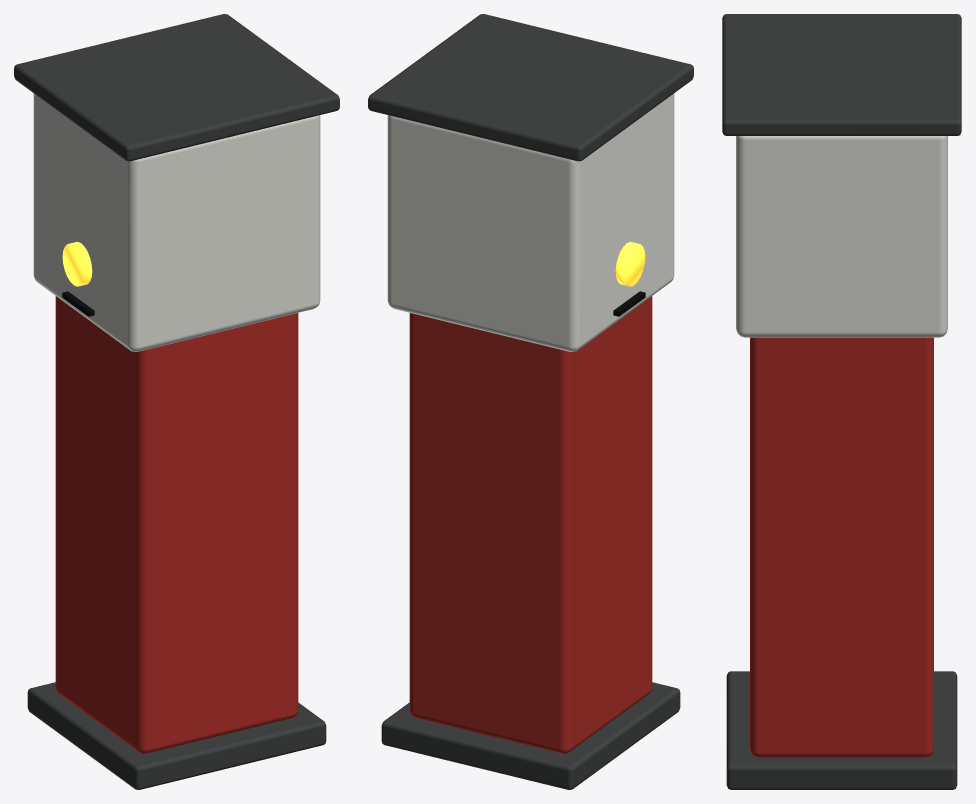
Rendered from ticket_machine.glb.
3 views of the same model, side by side, from view 1: azimuth 30°, elevation 25°; view 2: azimuth 150°, elevation 25°; view 3: azimuth 270°, elevation 25° (orthographic). The views are drawn at different scales.
Visible parts, largest first — view 1: ticket_machine; view 2: ticket_machine; view 3: ticket_machine.
Boxes of the visible parts, <box> form: ticket_machine: <box>14,14,339,789</box>; ticket_machine: <box>368,14,693,789</box>; ticket_machine: <box>722,14,961,789</box>.
Bounding box in the file's own units: 0.56 × 1.62 × 0.52.
